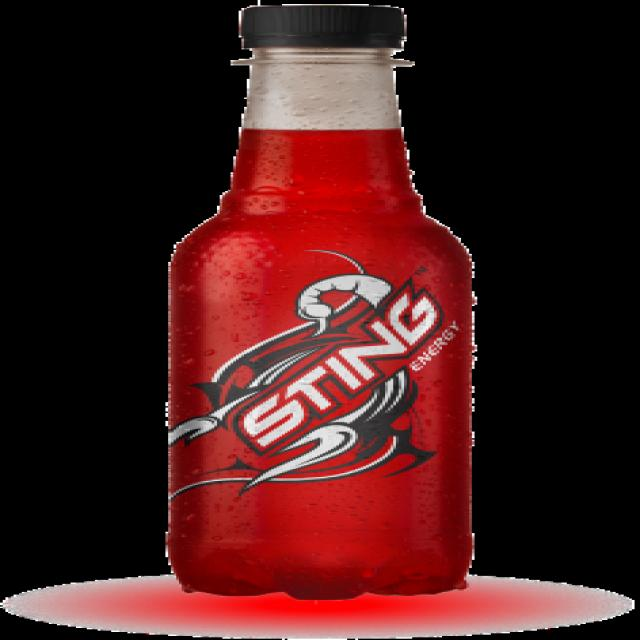plastic: (133, 2, 508, 604)
